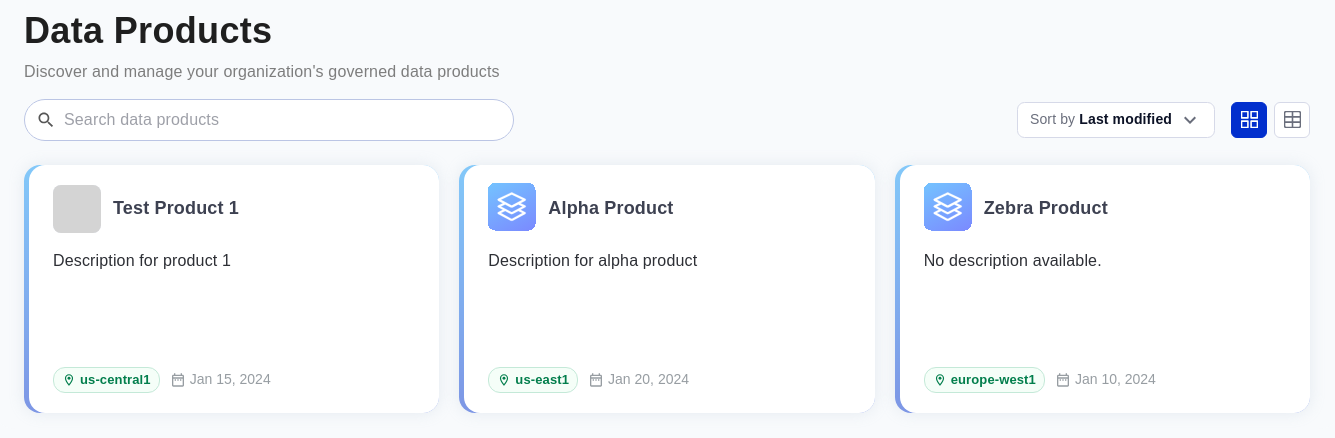
Test case: DataProducts Components › DataProducts › sorting functionality › should change sort by to Name when selecting Name option
Click the text "Last modified".
click(1126, 120)  # box x1=1079 y1=112 x2=1172 y2=128
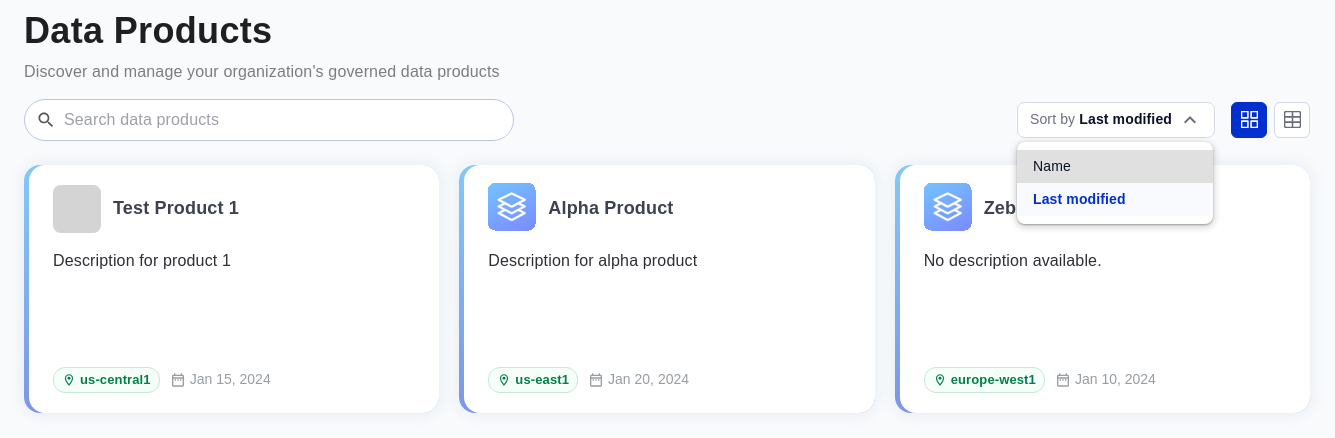
Expected: the menu is shown, x1=1017 y1=142 x2=1213 y2=224
Click the menu item "Name".
click(1115, 166)  # box x1=1017 y1=150 x2=1213 y2=183
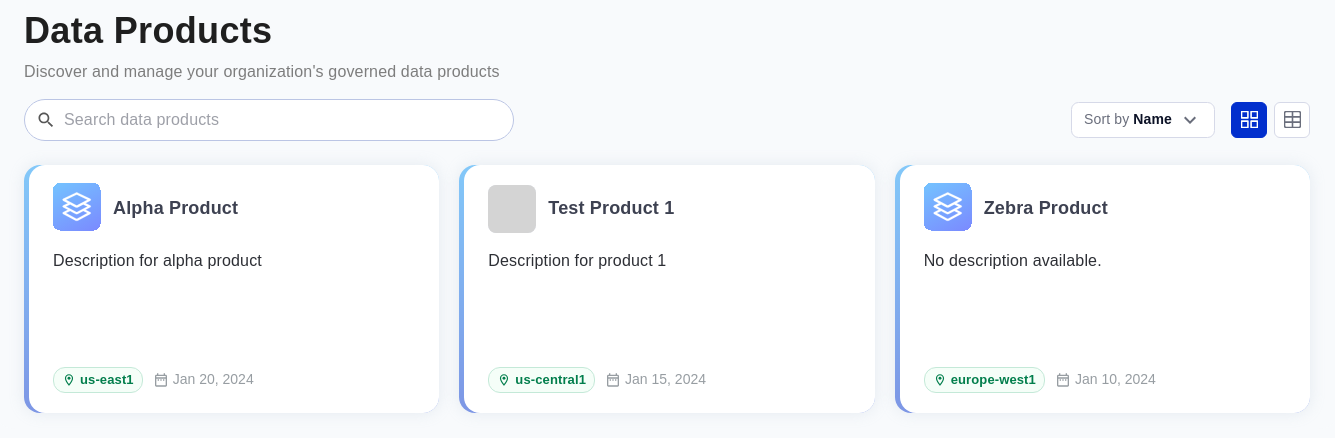
Expected: the text "Name" is shown, x1=1133 y1=112 x2=1172 y2=128
